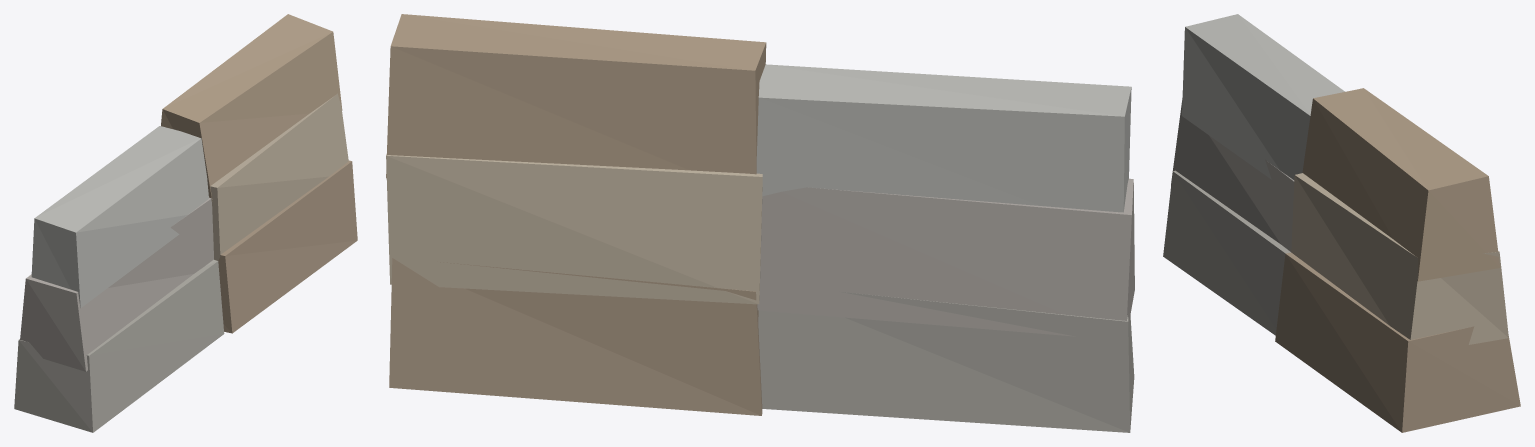
The model's file is farm_-32_-37_mid.glb.
3 renders of one model, left to right at view 1: azimuth 30°, elevation 25°; view 2: azimuth 150°, elevation 25°; view 3: azimuth 270°, elevation 25°, orthographic. The views are drawn at different scales.
Parts seen in each view (by area): view 1: geometry_0; view 2: geometry_0; view 3: geometry_0.
Part boxes in pixels (box(x1,y1,x2,y2)): geometry_0: box(14, 14, 357, 432); geometry_0: box(386, 14, 1134, 432); geometry_0: box(1163, 14, 1520, 432).
Size of the model in its own units: 3.1 by 1.7 by 2.05.
